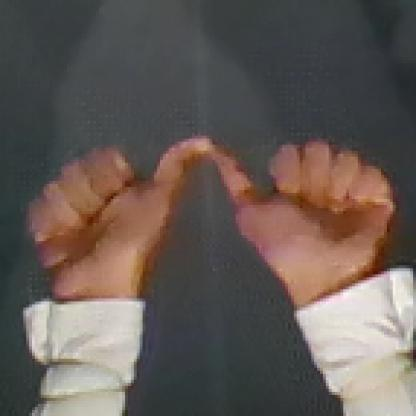A: (23, 128, 395, 281)
